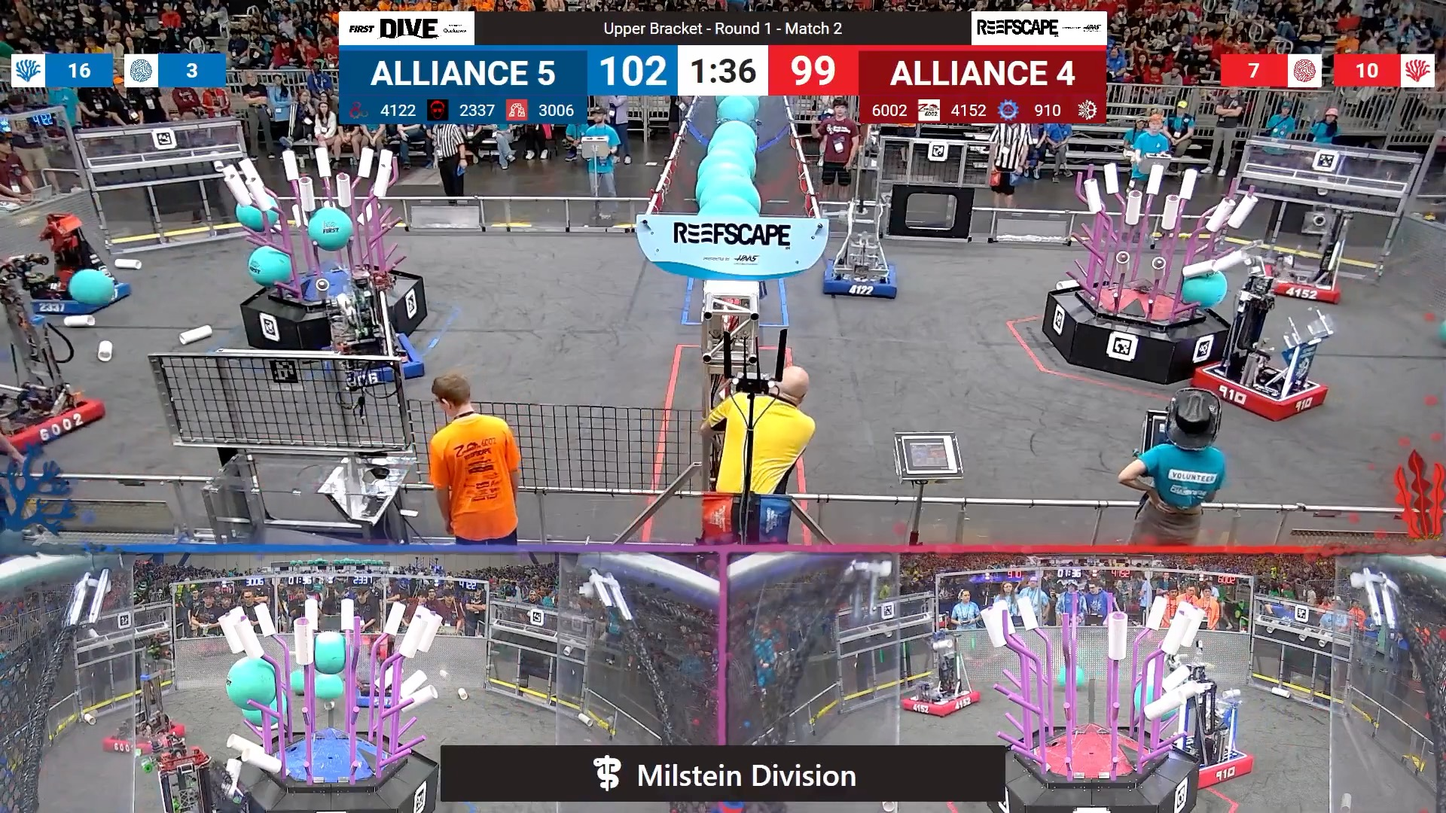bumpers: (1190, 365, 1335, 424), (0, 382, 113, 455), (316, 333, 427, 388), (1246, 264, 1350, 306), (809, 255, 905, 300), (1170, 743, 1257, 790), (96, 713, 192, 755), (895, 683, 984, 717)
